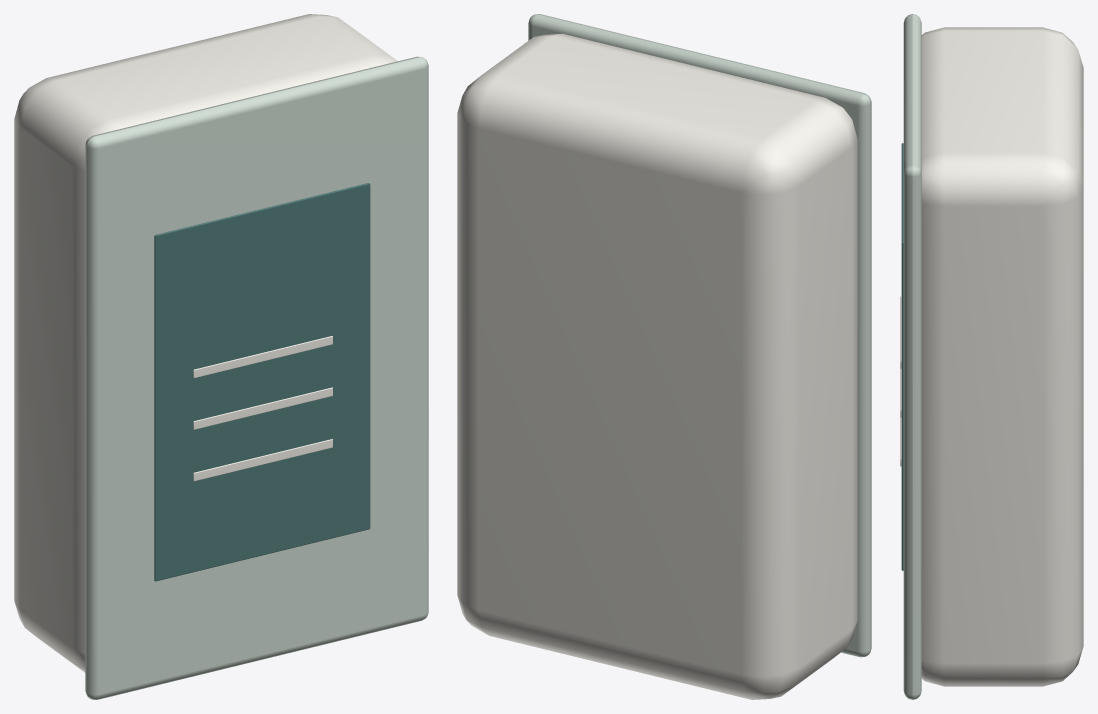
File: meal_box.glb
3 renders of one model, left to right at view 1: azimuth 30°, elevation 25°; view 2: azimuth 150°, elevation 25°; view 3: azimuth 270°, elevation 25°, orthographic. The views are drawn at different scales.
Visible parts, largest first — view 1: meal_box visual Headwall pale sage, meal_box visual Visitor chair woven teal, meal_box visual Porcelain white; view 2: meal_box visual Porcelain white, meal_box visual Headwall pale sage; view 3: meal_box visual Porcelain white, meal_box visual Headwall pale sage, meal_box visual Visitor chair woven teal.
Part boxes in pixels (x1,y1,x2,y2): meal_box visual Headwall pale sage: (85, 56, 428, 699); meal_box visual Visitor chair woven teal: (154, 183, 370, 581); meal_box visual Porcelain white: (14, 14, 397, 672); meal_box visual Porcelain white: (457, 33, 857, 699); meal_box visual Headwall pale sage: (528, 14, 871, 657); meal_box visual Porcelain white: (900, 27, 1083, 686); meal_box visual Headwall pale sage: (903, 14, 921, 699); meal_box visual Visitor chair woven teal: (901, 143, 903, 570).
Size of the model in its own units: 0.083 by 0.131 by 0.0408.
